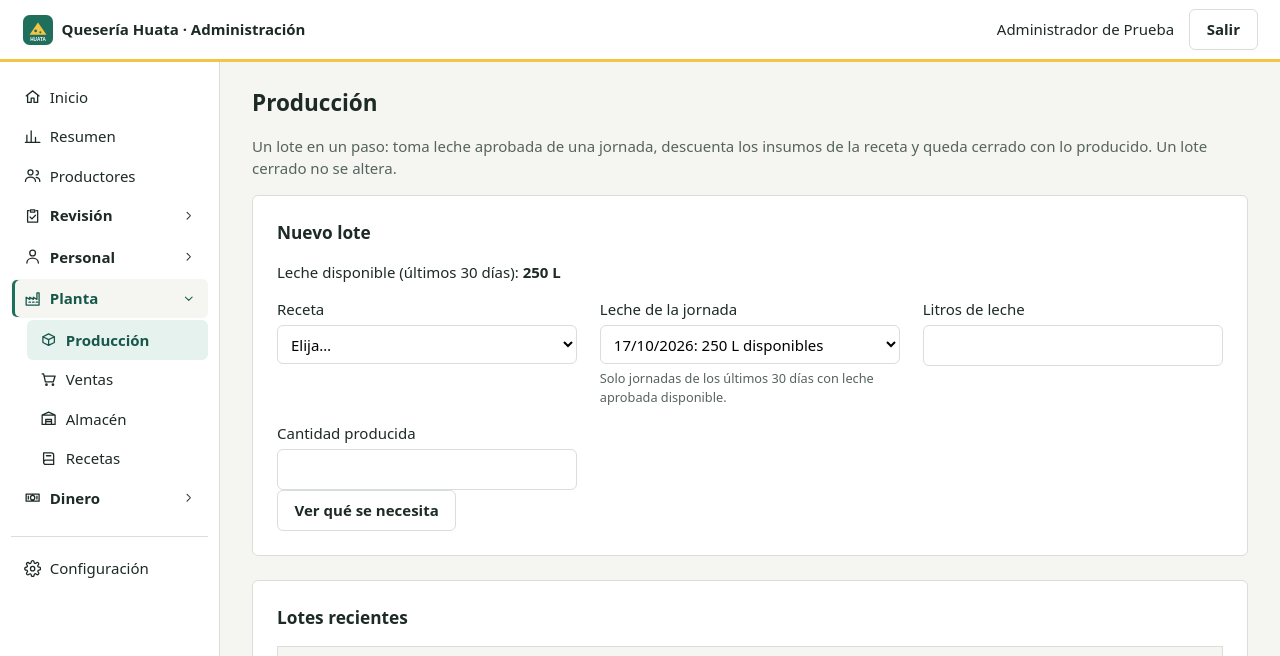
Scenario: producción › bloquea el botón mientras falte stock y dice qué reponer
This screenshot has width=1280, height=656.
Select "Queso paria (unidades)" in the dropdown labelled "Receta" at (427, 345), box left=277, top=325, right=577, bottom=364
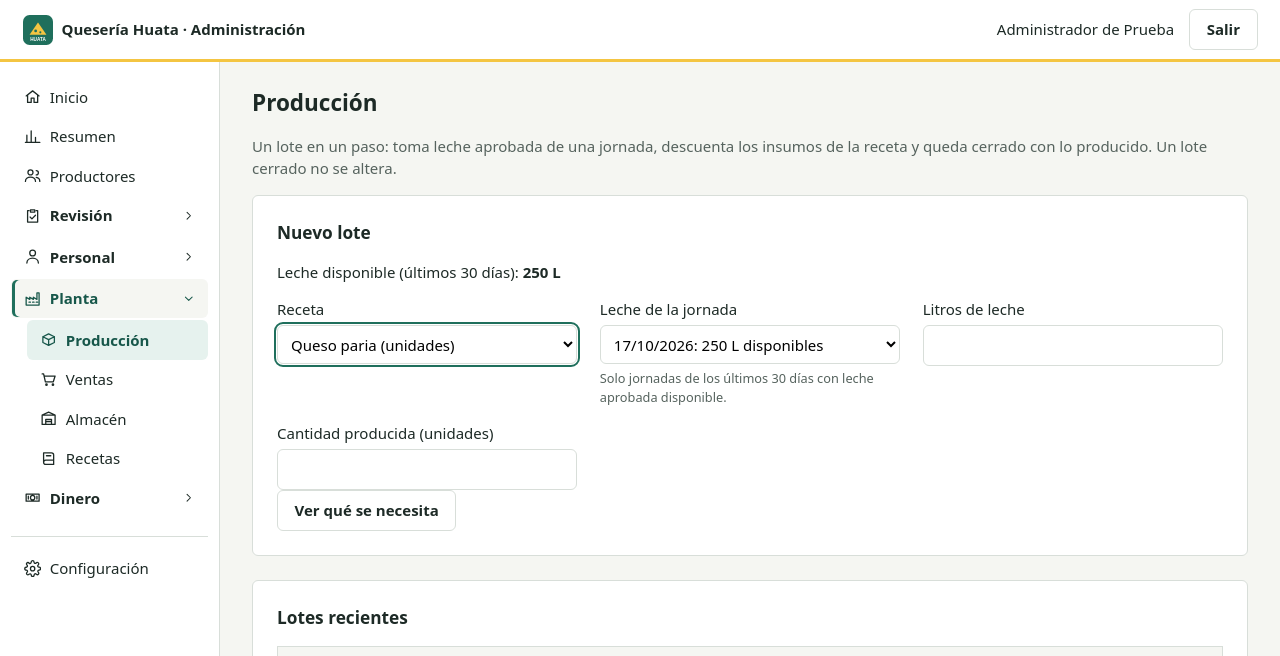
Select "17/10/2026: 250 L disponibles" in the dropdown labelled "Leche de la jornada" at (750, 345), box left=600, top=325, right=900, bottom=364
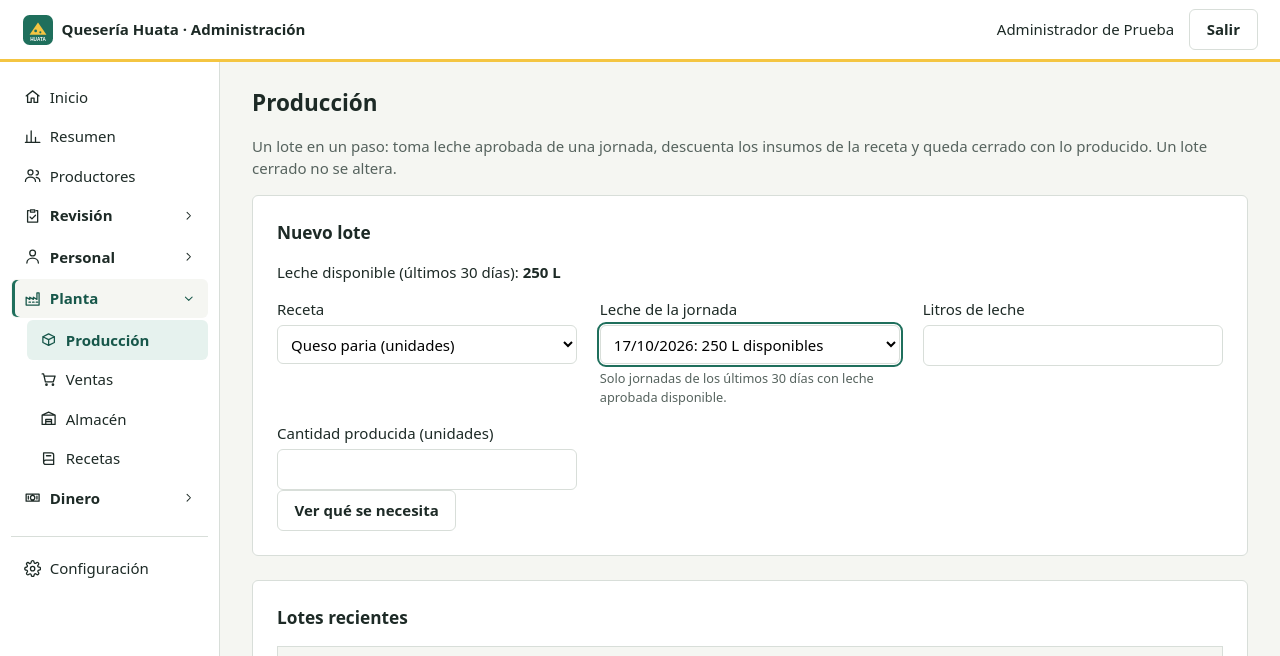
Type "100" into the field labelled "Litros de leche" at (1073, 346), box left=923, top=325, right=1223, bottom=366
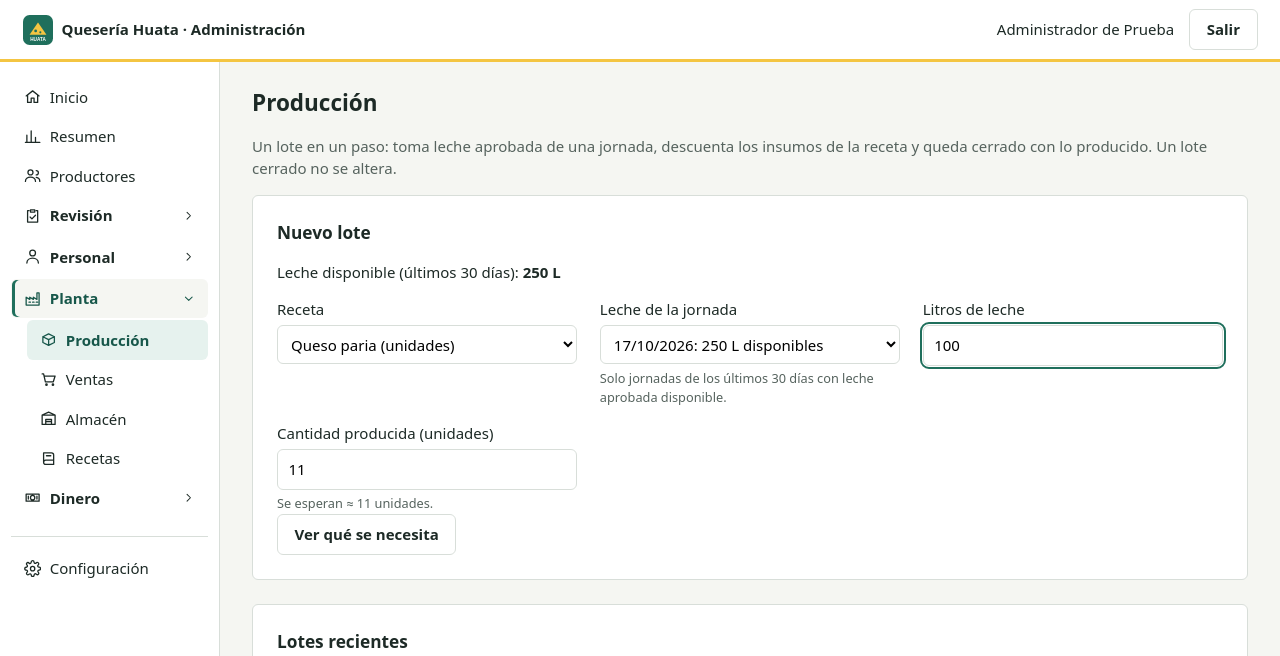
Replace the text in the field labelled "Cantidad producida (unidades)" with "10.5" at (427, 469), box left=277, top=449, right=577, bottom=490
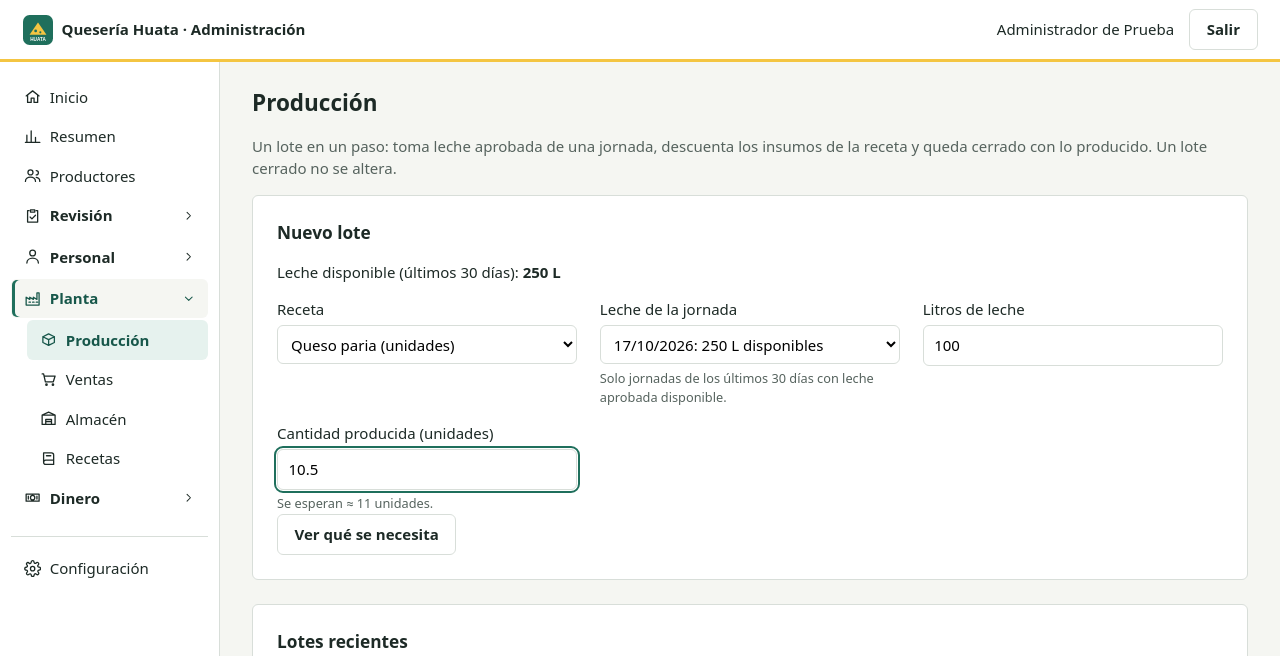
Click the button "Ver qué se necesita" at (367, 534), box left=277, top=514, right=456, bottom=554
(page scrolled)
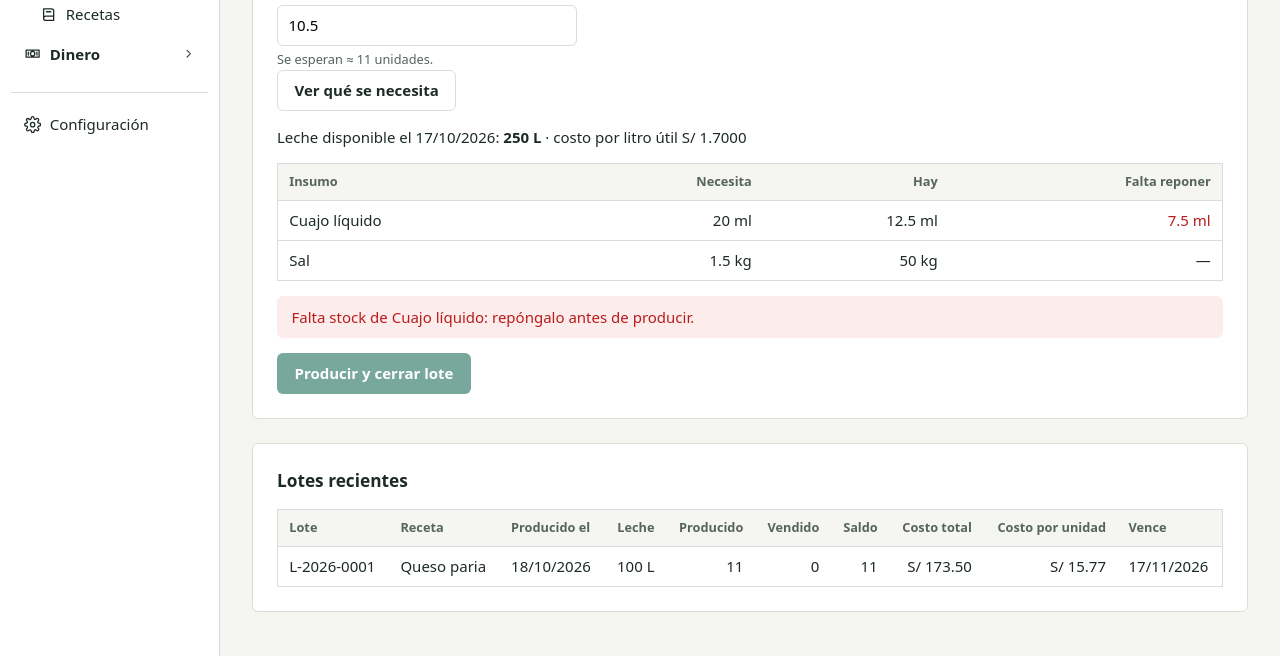
Expected: the message reads "Falta stock de Cuajo líquido: repóngalo antes de producir.", left=277, top=296, right=1223, bottom=338
Expected: the button "Producir y cerrar lote" is disabled, left=277, top=353, right=471, bottom=394
